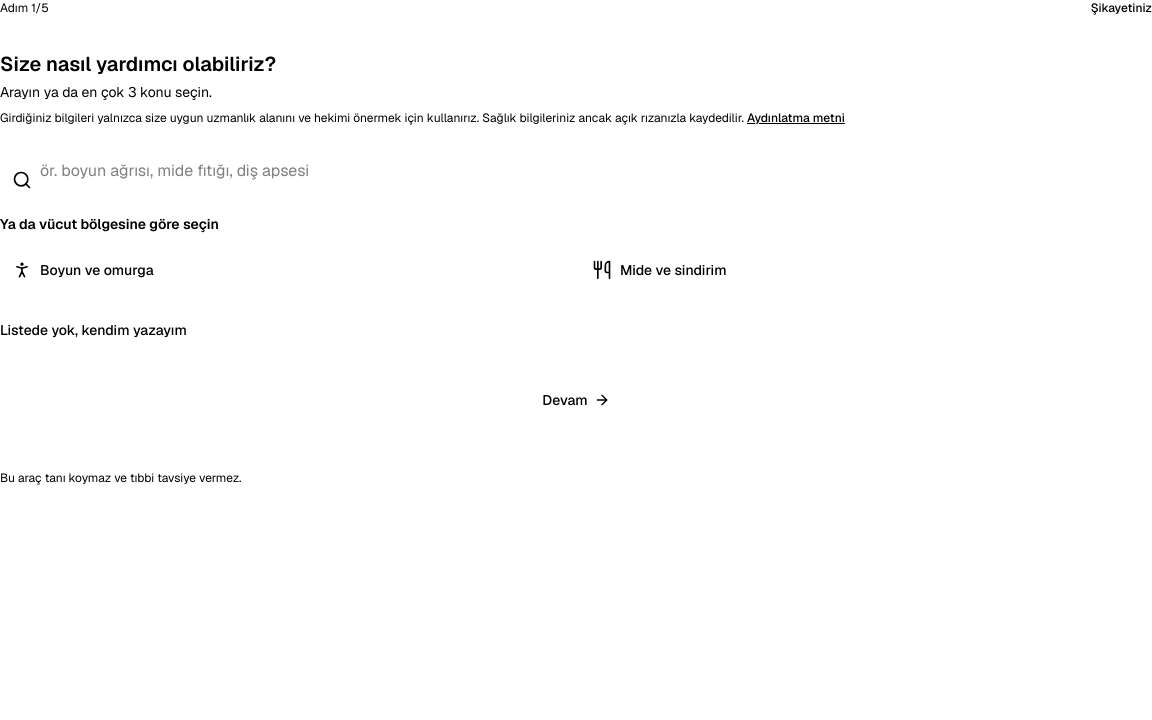
Test case: sihirbaz akışı › kırmızı bayrak seçilince tam ekran acil uyarısı; ülkeye göre numara (ABD → 911); 'Acil değil, devam et' kayda geçer
Type "nefes" into the dropdown with test id "matcher-search" at {"x": 576, "y": 170}, box left=0, top=146, right=1151, bottom=194
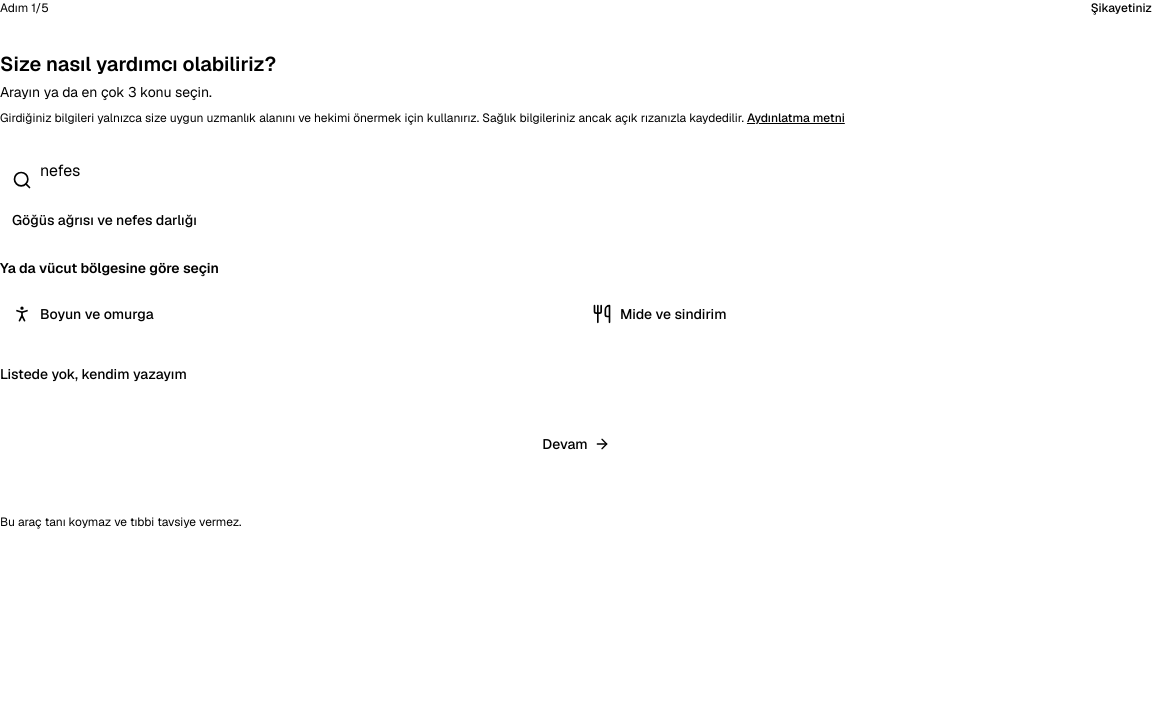
Click the option "Göğüs ağrısı ve nefes darlığı" at {"x": 104, "y": 220}, box left=12, top=211, right=197, bottom=229
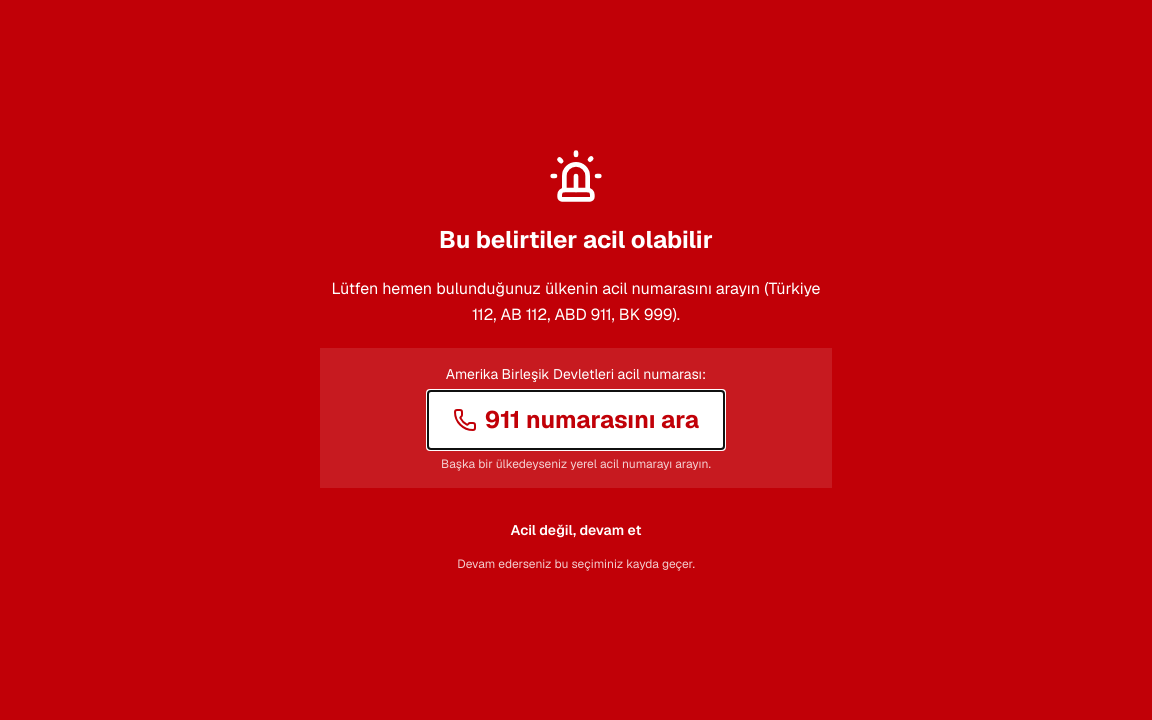
Result: the heading reads "Bu belirtiler acil olabilir" at left=439, top=224, right=713, bottom=255
Result: the text "Türkiye 112, AB 112, ABD 911, BK 999" is shown at left=331, top=278, right=820, bottom=325
Press Escape
Result: the dialog with test id "matcher-red-flag" is shown
Click the button with test id "matcher-red-flag-continue" at {"x": 576, "y": 530}, box left=495, top=508, right=657, bottom=552
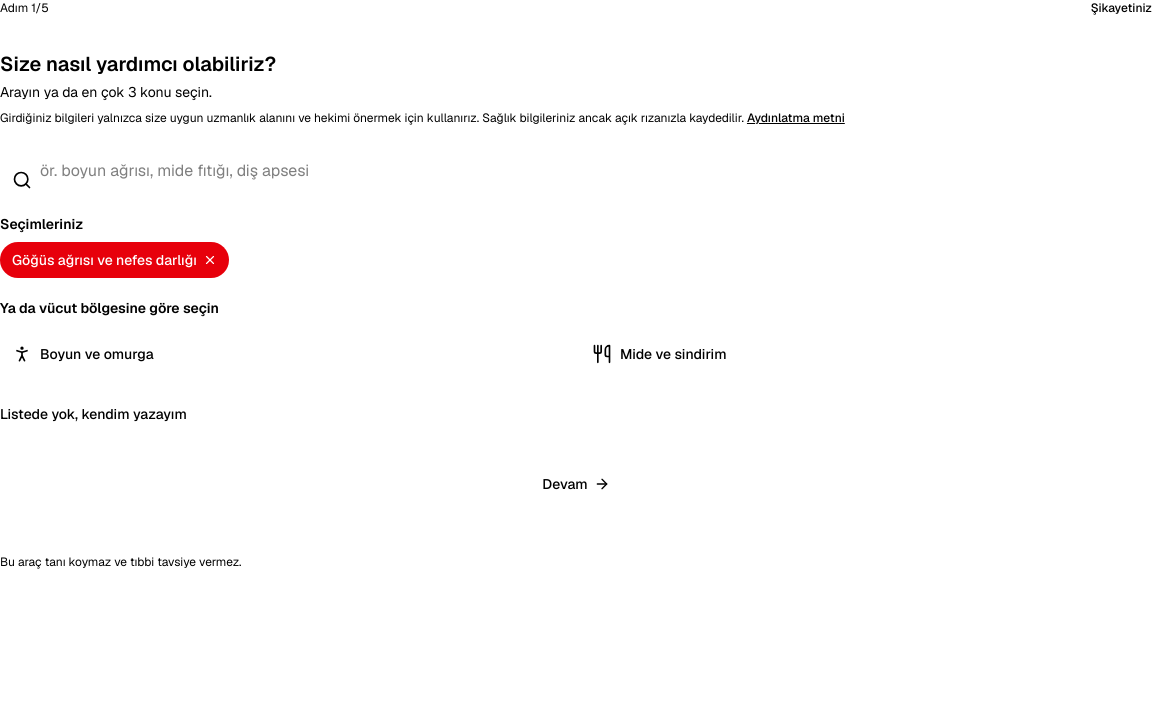
Result: the dialog with test id "matcher-red-flag" is gone
